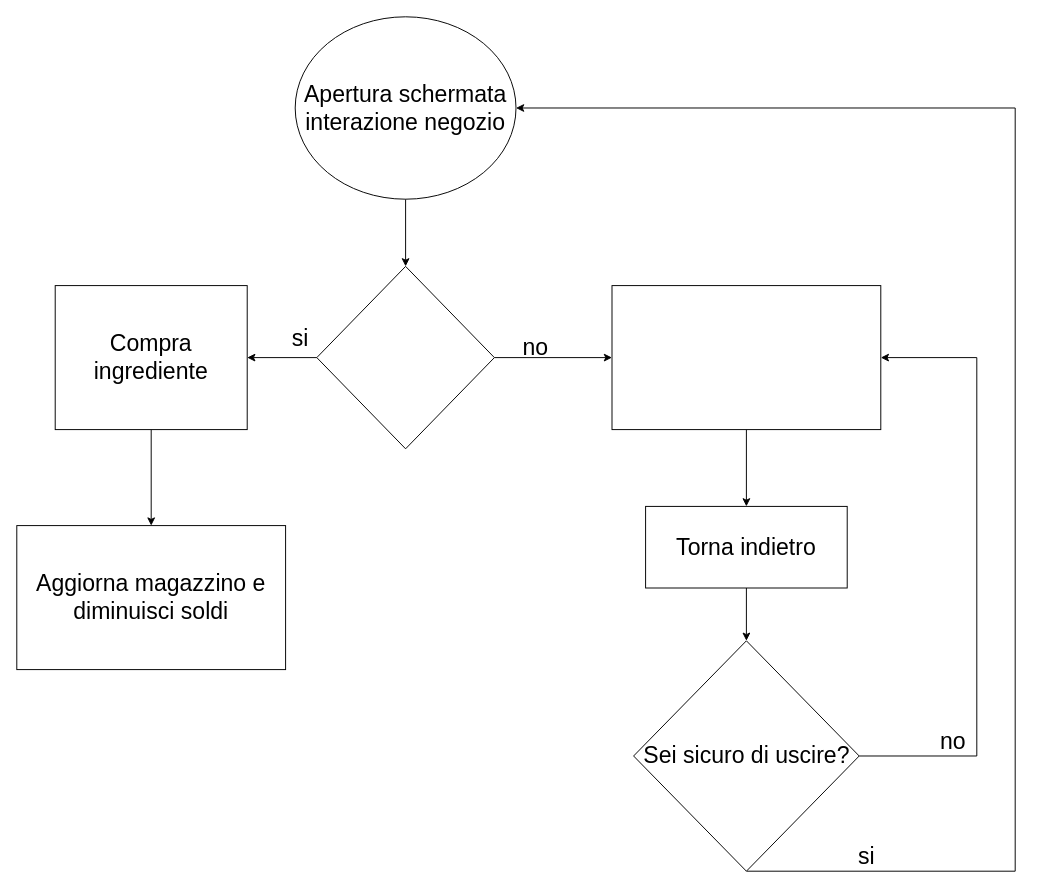
The diagram is 1040 pixels wide and 896 high, and some of its shapes have lost their labels. The centre of each missing label's shape, as x and y in pixels:
"Selezionato ingrediente" belongs at pixel 405 357.
"Visualizza piatti realizzabili con l'ingrediente" belongs at pixel 746 357.
